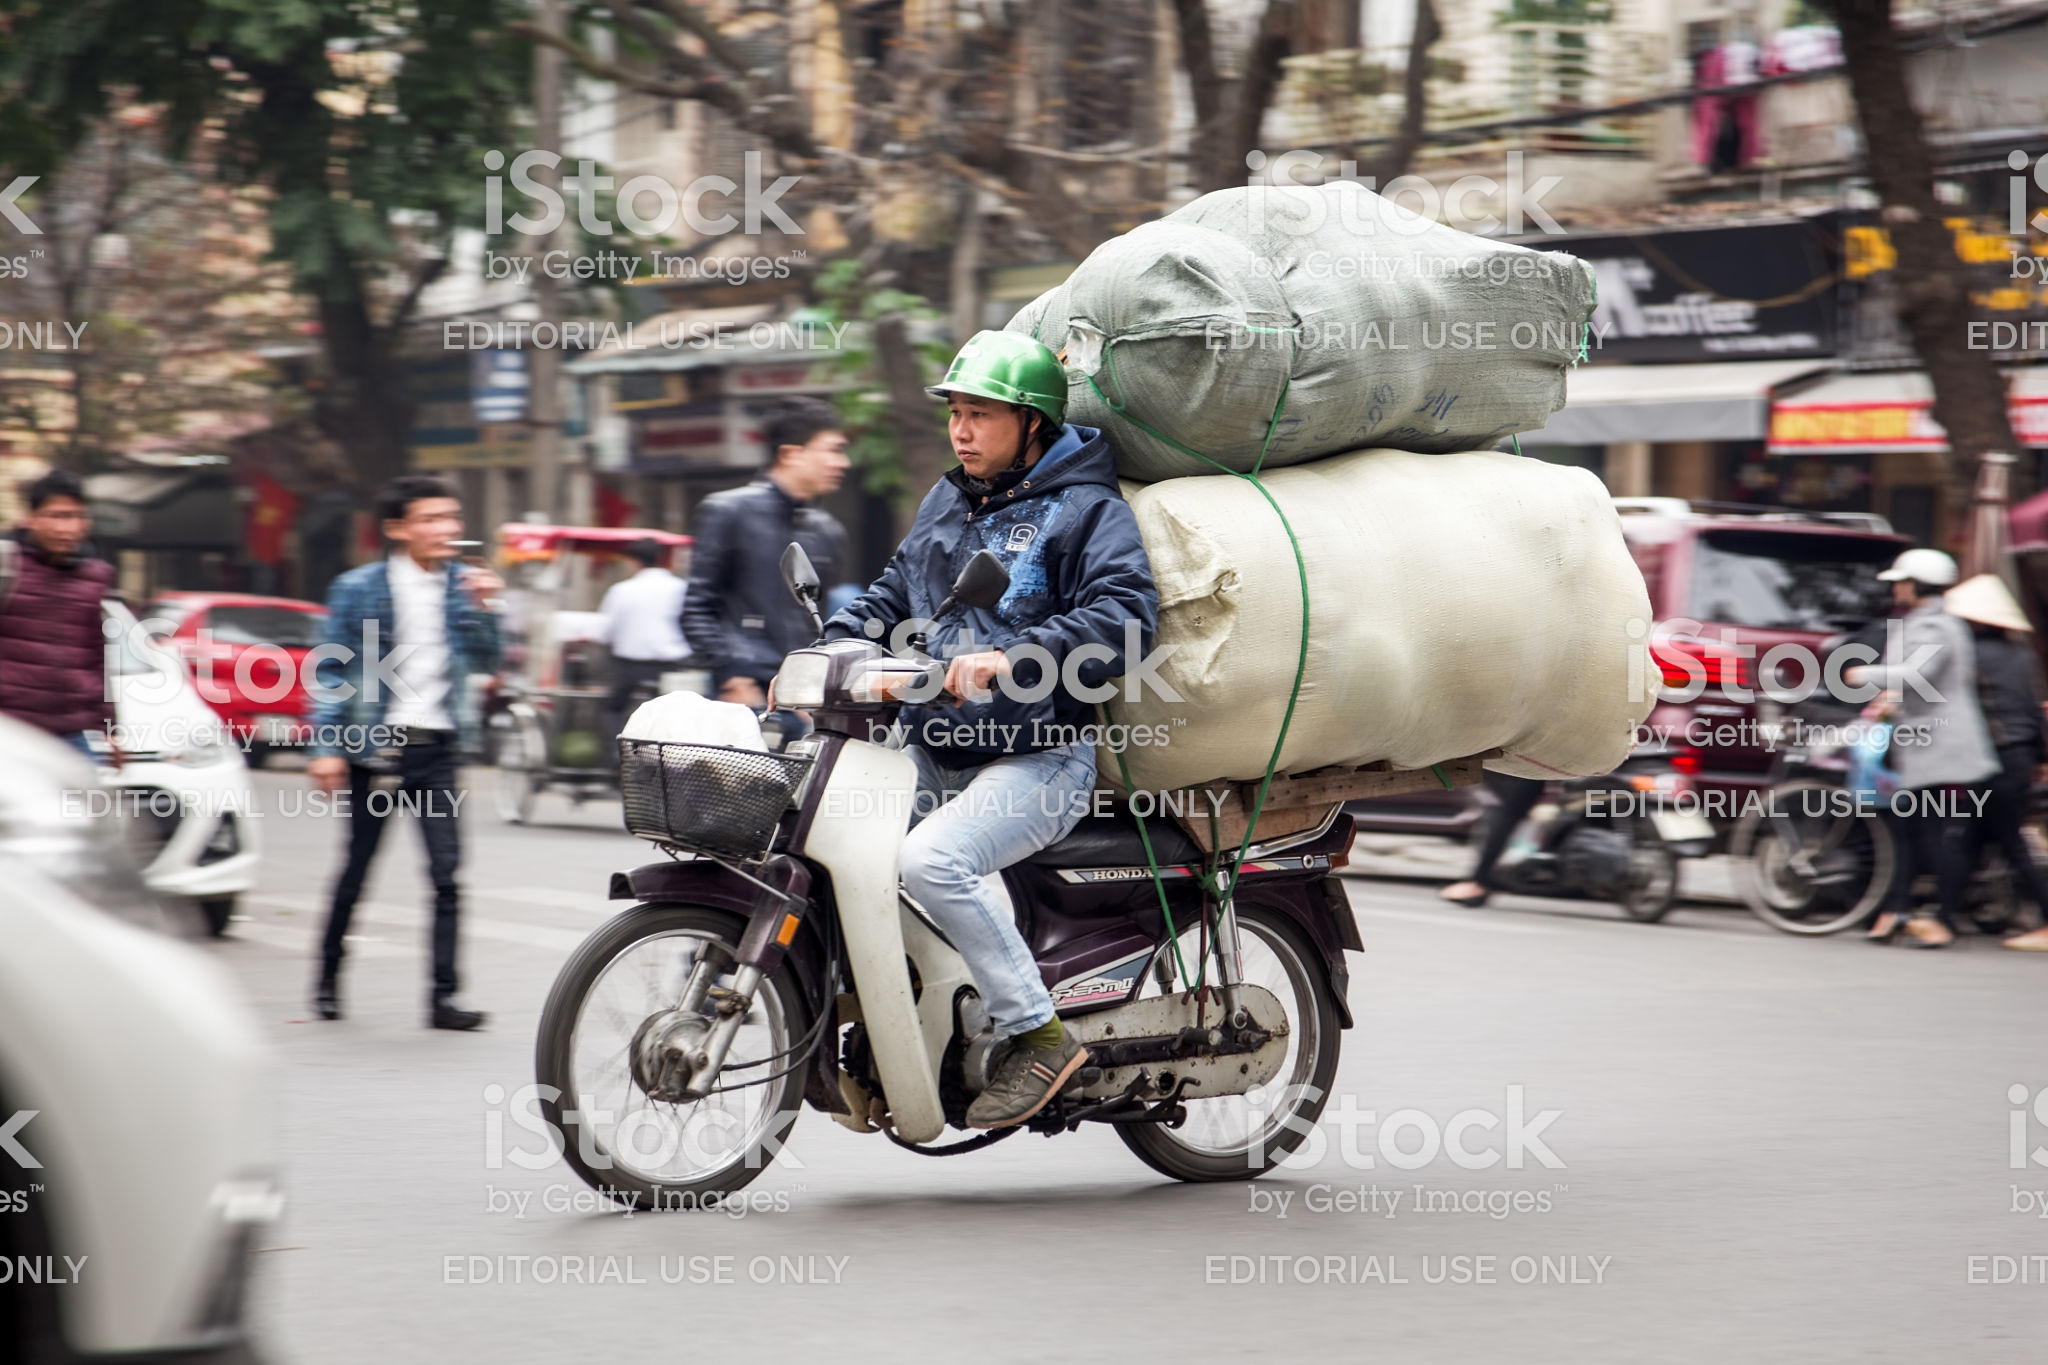helmet: (936, 318, 1057, 436)
